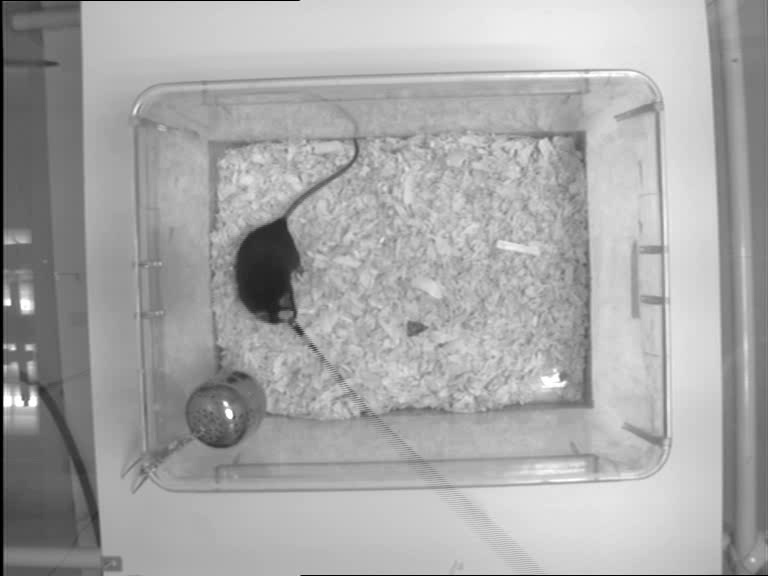mice: (234, 135, 360, 327)
